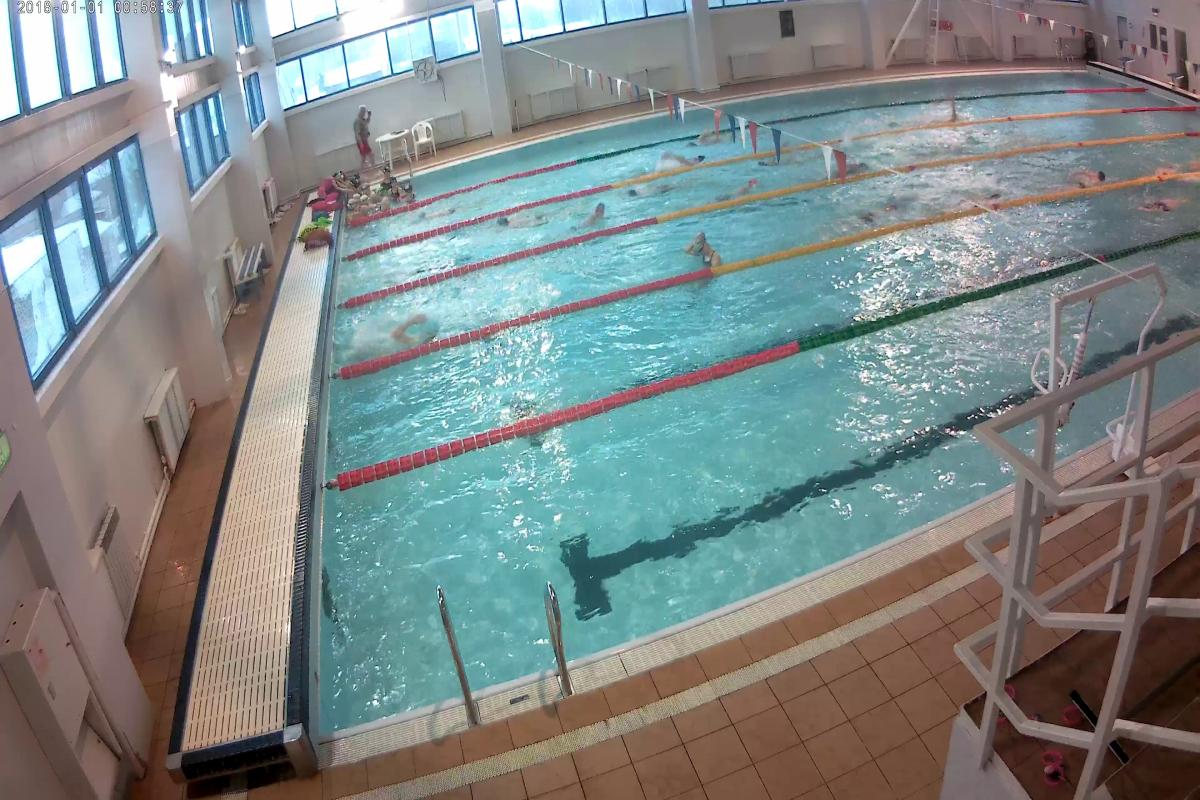swimmer: (680, 226, 735, 268), (382, 313, 448, 344), (1134, 190, 1194, 218), (1066, 163, 1114, 188), (854, 199, 892, 226)
